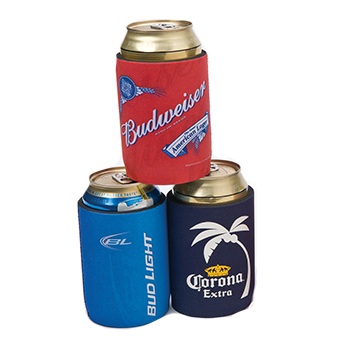beer can: (118, 20, 215, 180), (172, 160, 253, 319), (85, 170, 164, 328)
